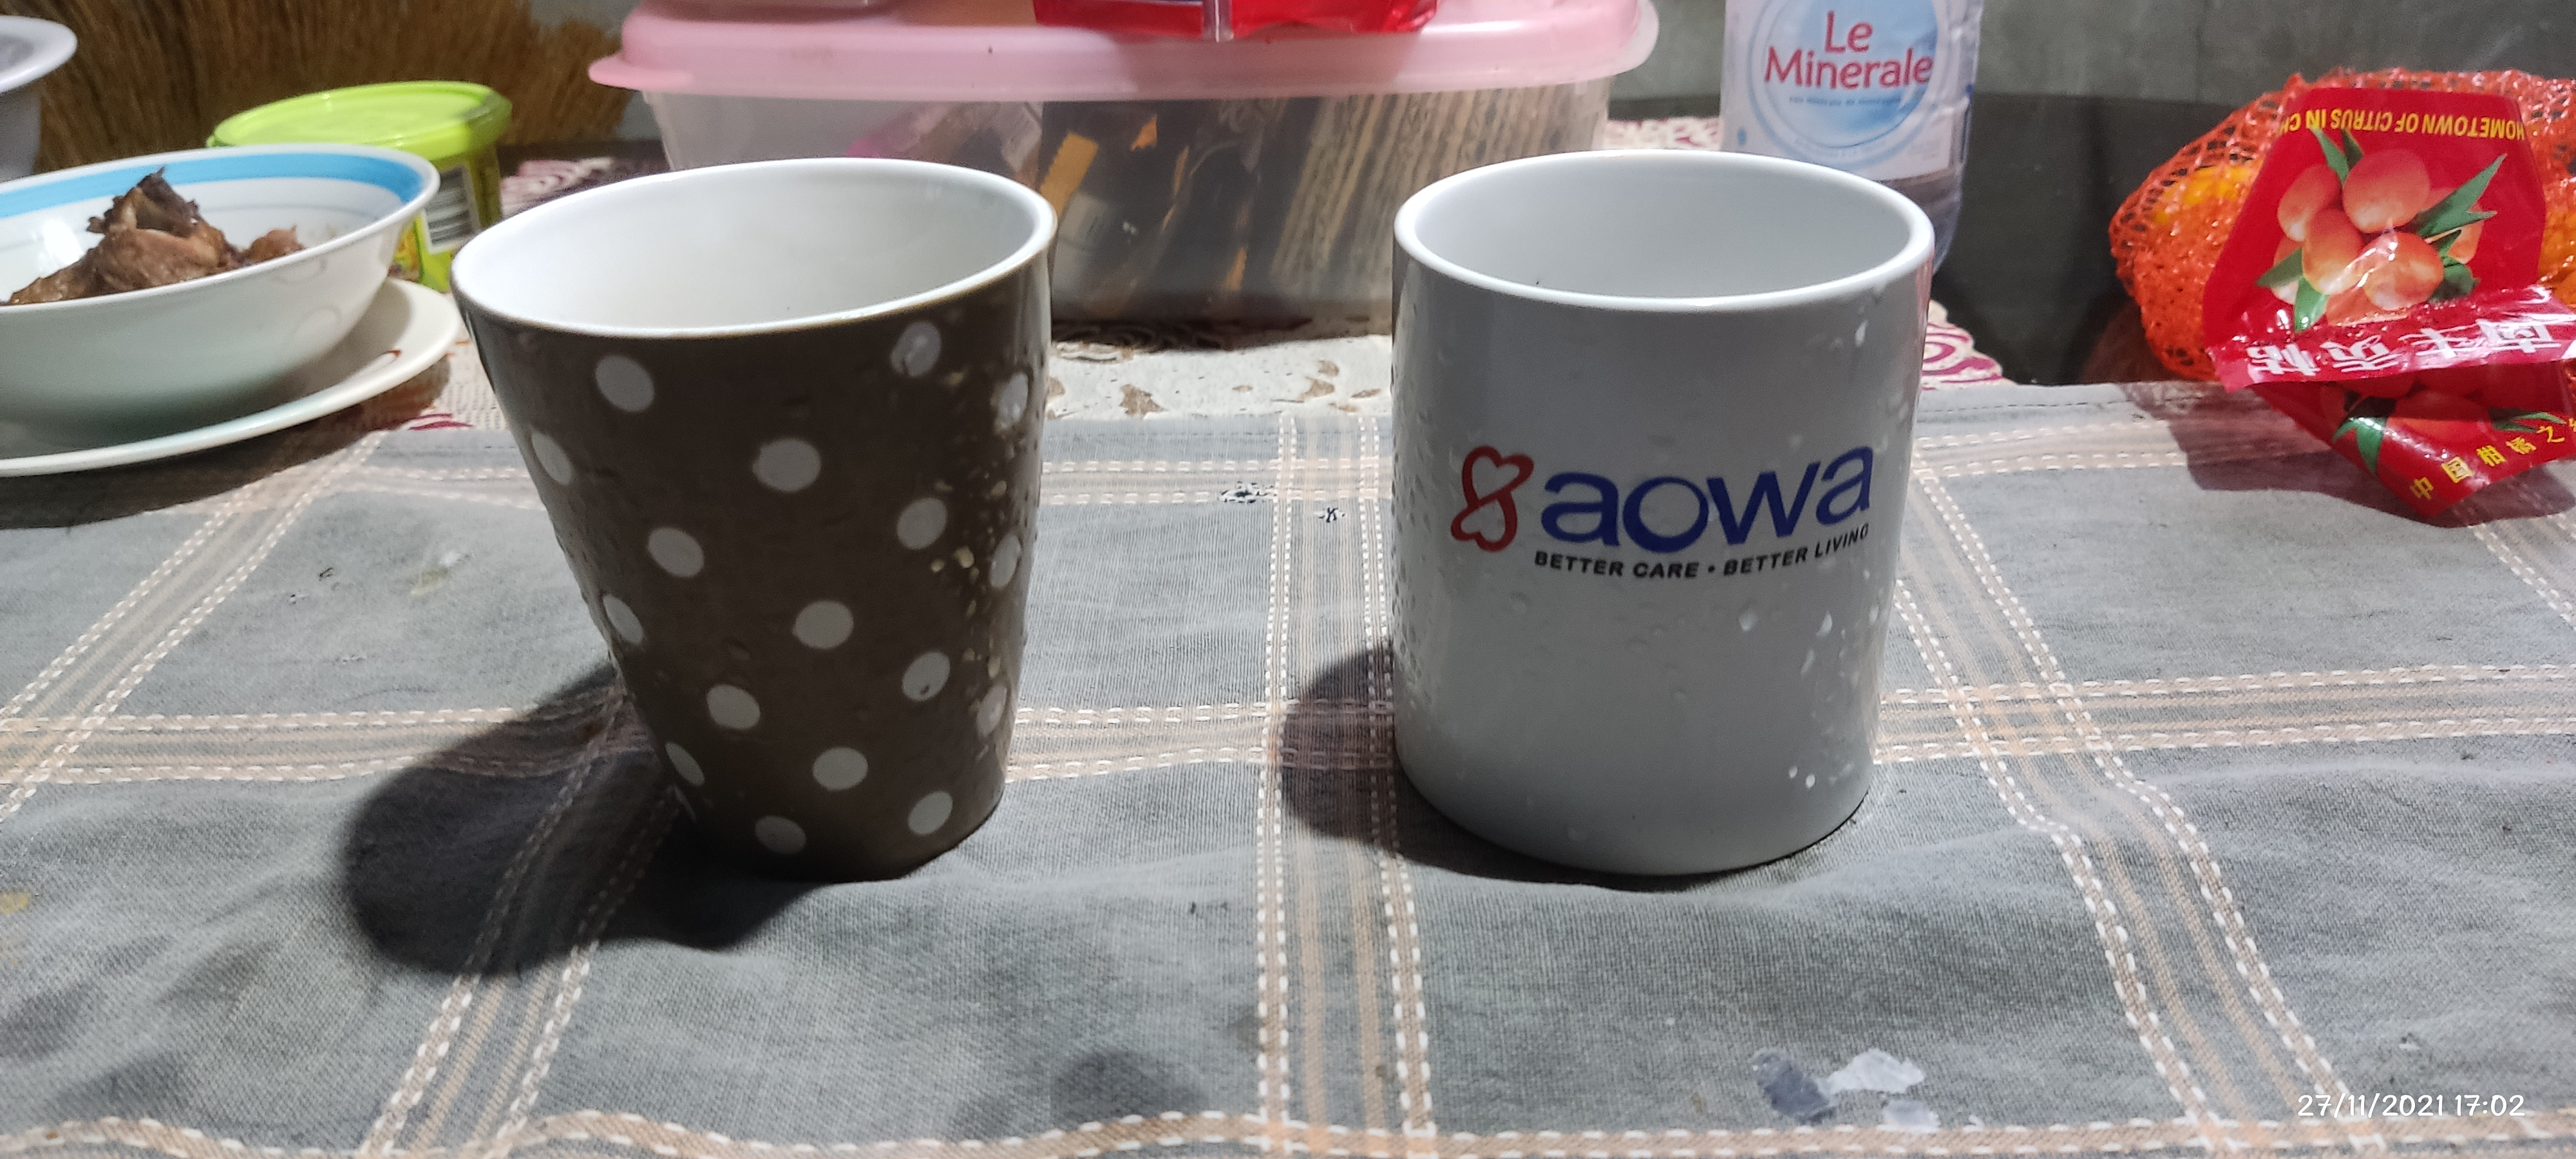mug: (445, 153, 1056, 873), (1391, 144, 1937, 882)
